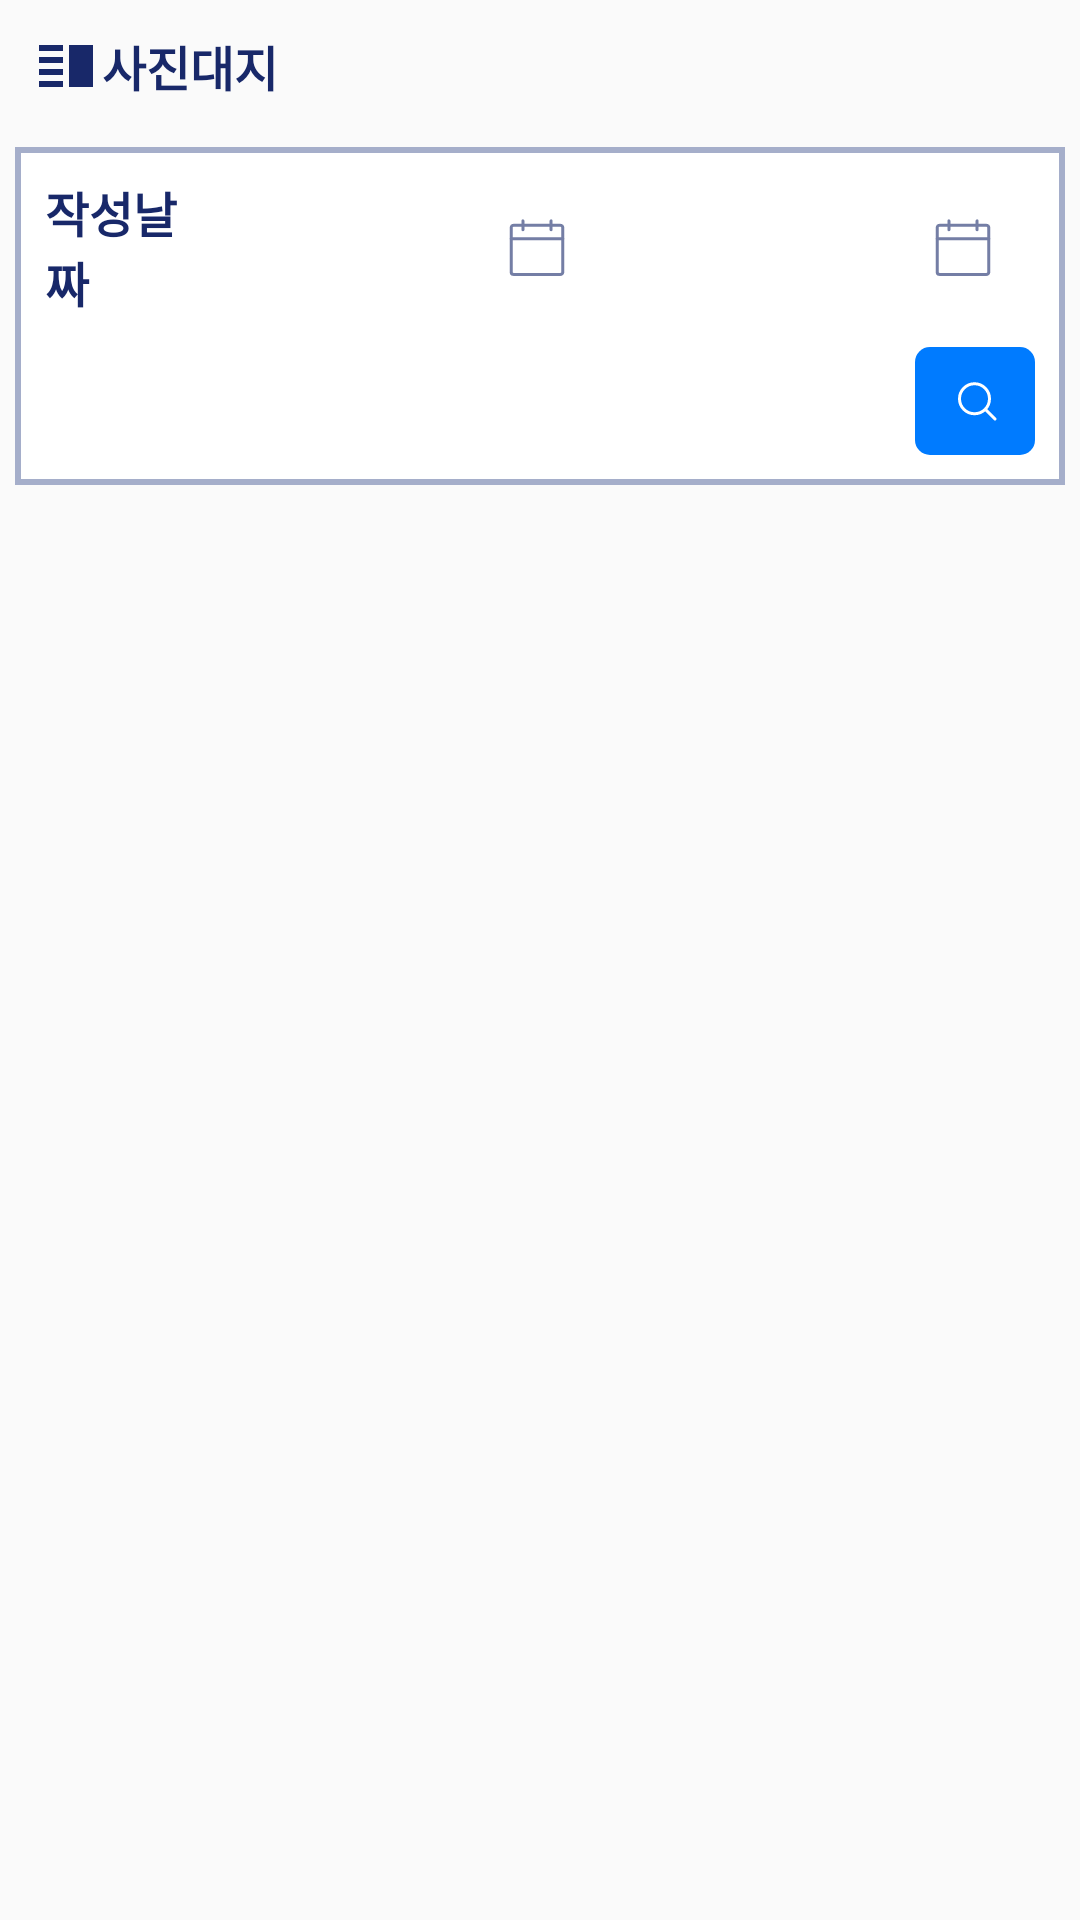

Screen size 1080×1920. Icon name, then its box in pixels as (x1, y1, x2, y2):
calendar: (509, 219, 565, 276), (935, 219, 991, 276)
search: (915, 347, 1035, 455)
